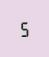five: (19, 20, 28, 37)
